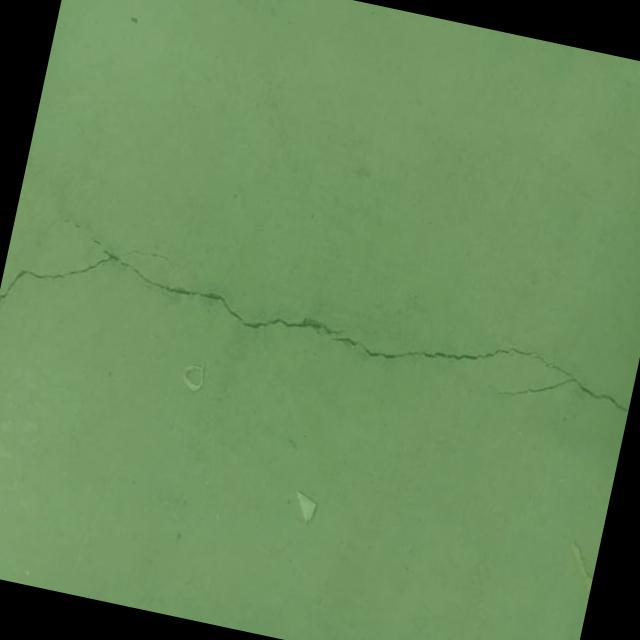crack: (0, 207, 640, 434)
